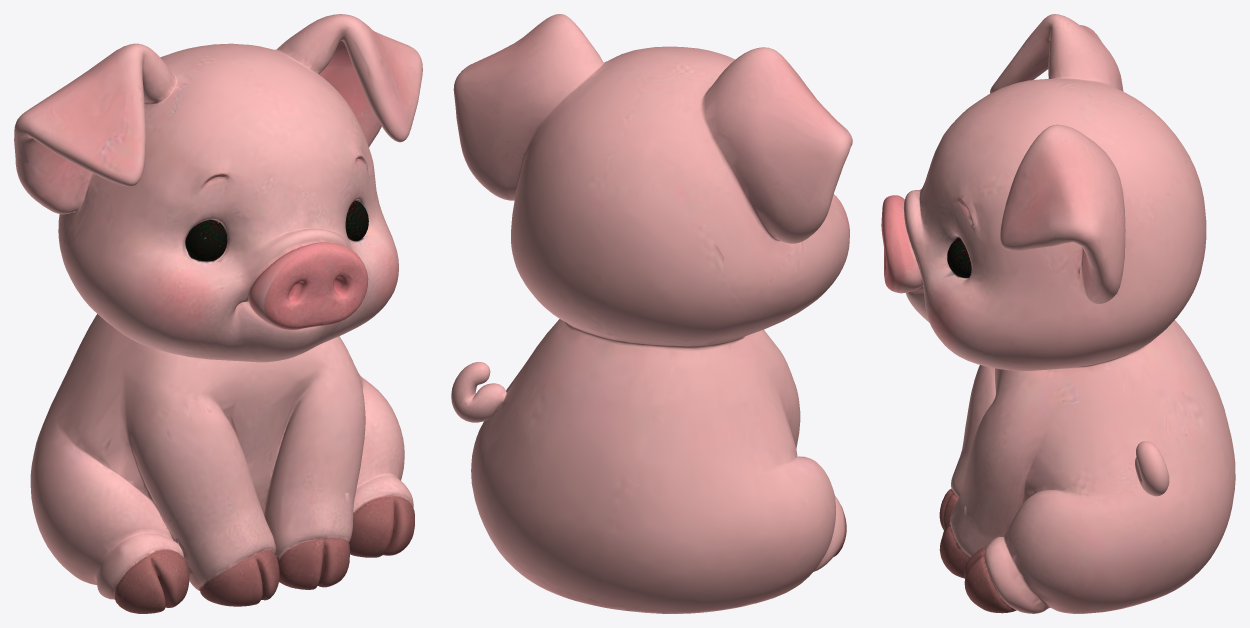
The picture shows the model from 3 angles, left to right: view 1: azimuth 30°, elevation 25°; view 2: azimuth 150°, elevation 25°; view 3: azimuth 270°, elevation 25°; orthographic projection. The views are drawn at different scales.
Bounding box in the file's own units: 1.49 × 1.9 × 1.25.
1 material, 1 textured.
